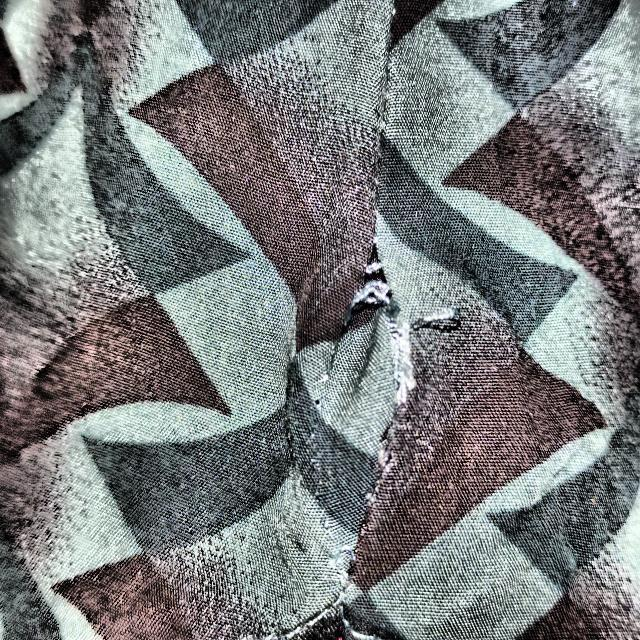cut: (310, 237, 463, 574)
